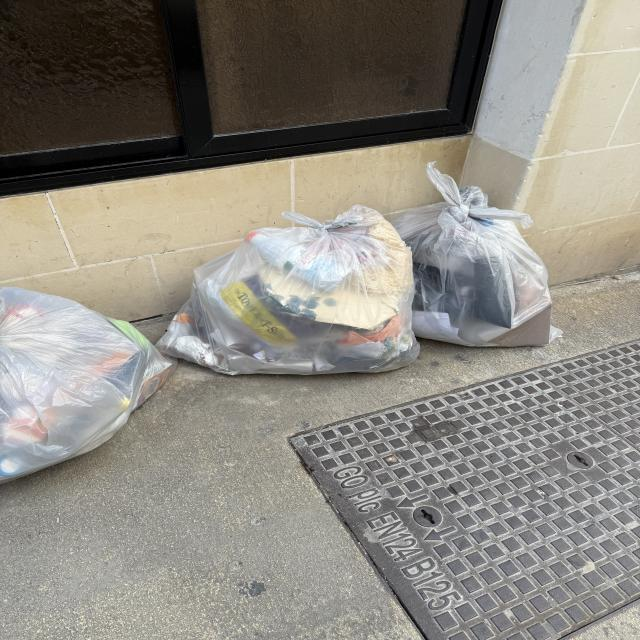Recyclable Material -Grey Bags-: (0, 161, 564, 484)
